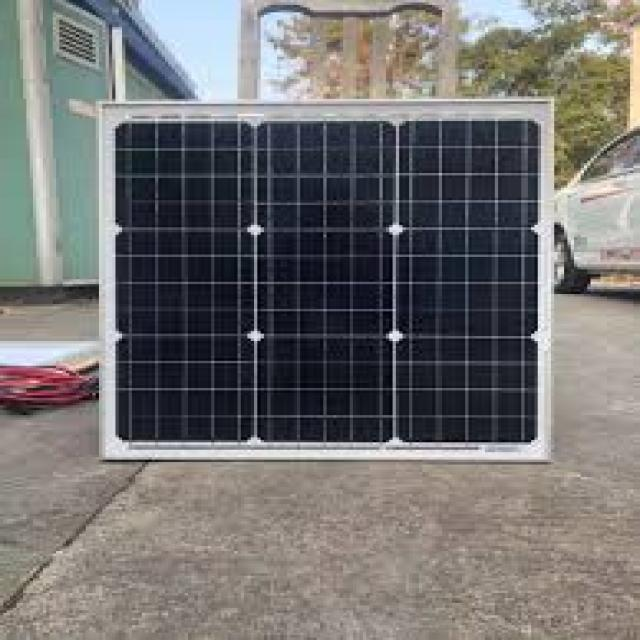no faulty: (123, 115, 548, 448)
